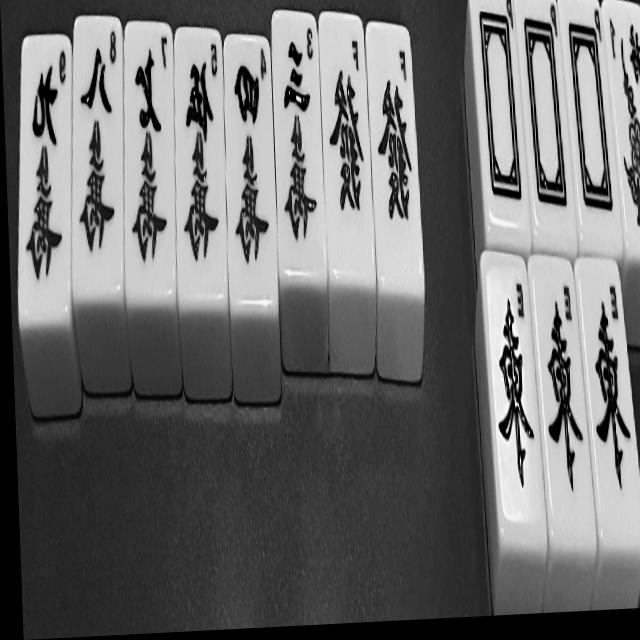bai: (516, 0, 572, 241), (565, 0, 615, 238), (477, 0, 523, 233)
east: (490, 264, 542, 513), (541, 261, 588, 528), (589, 263, 635, 527)
f1: (607, 0, 640, 278)
fa: (370, 33, 420, 280), (321, 30, 372, 270)
m3: (272, 15, 323, 261)
m4: (221, 41, 277, 312)
m5: (170, 31, 228, 307)
m7: (121, 21, 180, 292)
m8: (68, 22, 126, 299)
m9: (15, 40, 77, 312)
